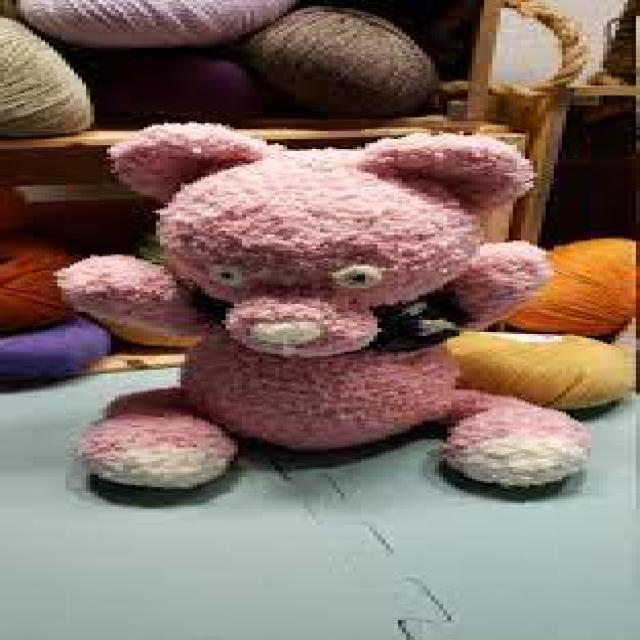soft-toy: (59, 126, 590, 490)
